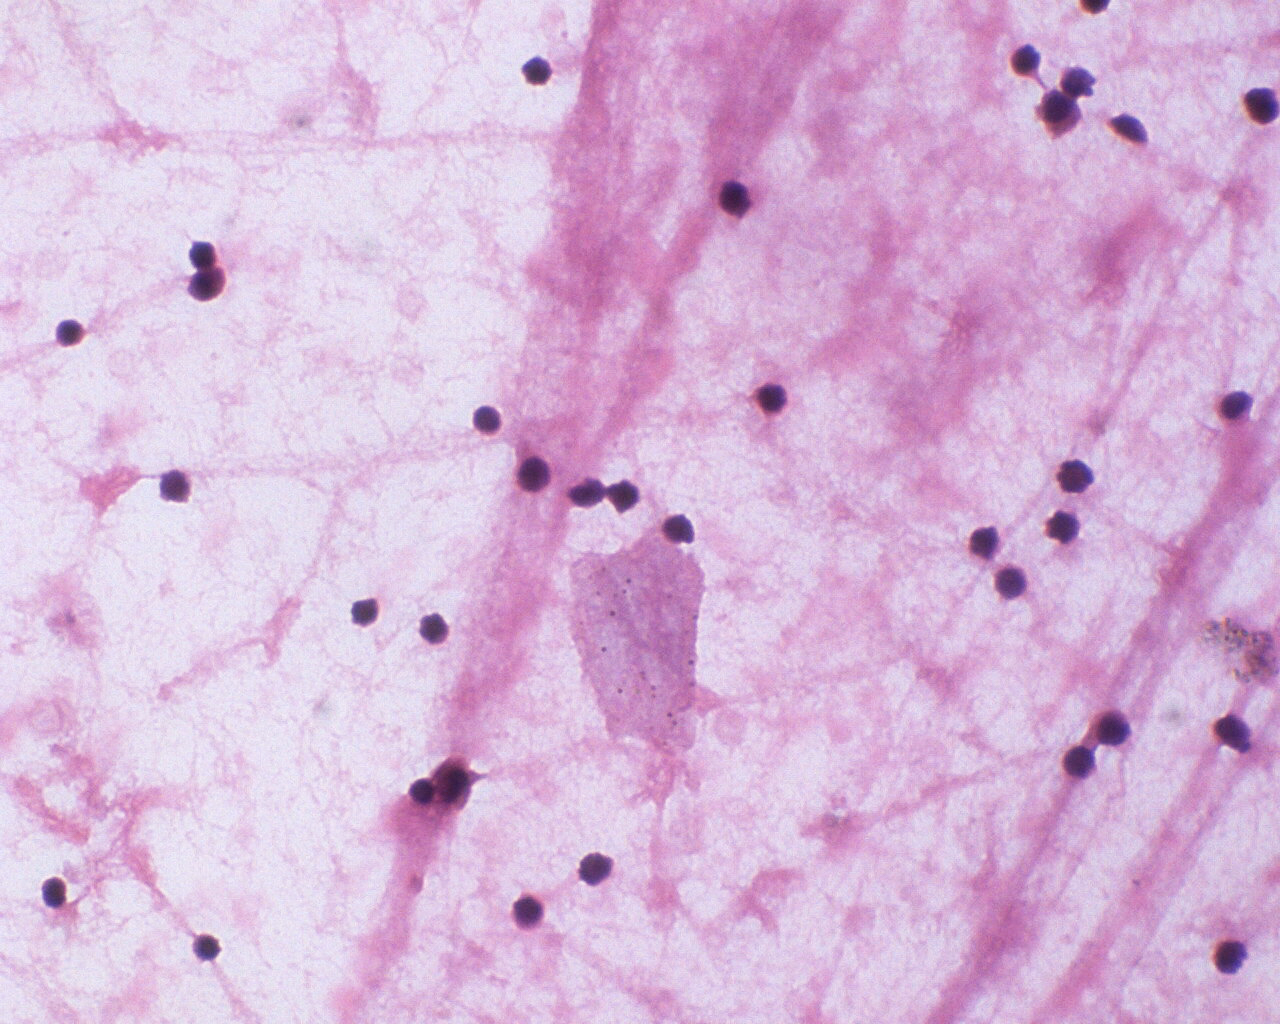lymph: (506, 885, 556, 933), (712, 173, 757, 222), (1209, 383, 1262, 423), (991, 561, 1035, 607), (1060, 740, 1104, 786), (513, 452, 557, 499), (346, 587, 388, 636), (415, 606, 461, 649), (515, 49, 561, 92), (466, 399, 507, 444), (48, 310, 94, 350), (752, 373, 791, 419), (37, 867, 73, 914), (1004, 39, 1046, 77)
